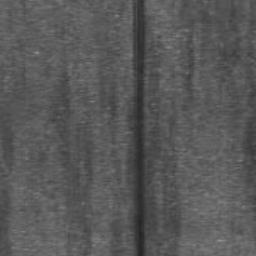Scratches: (131, 0, 147, 256)
